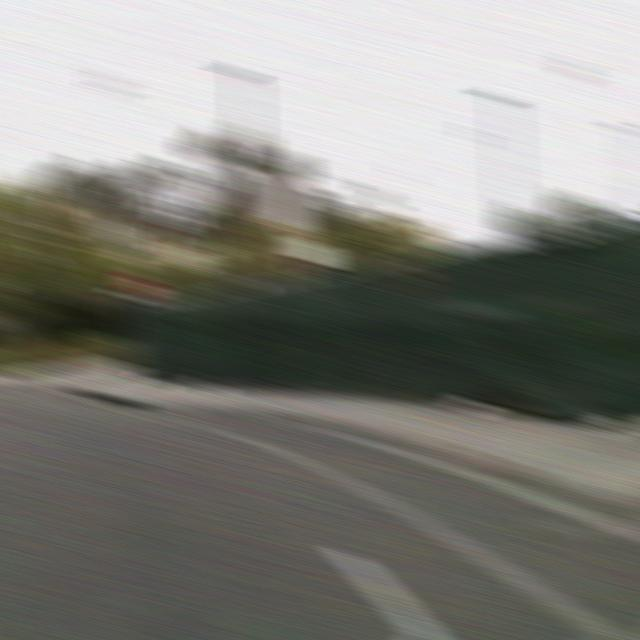stop_sign: (123, 268, 160, 304)
